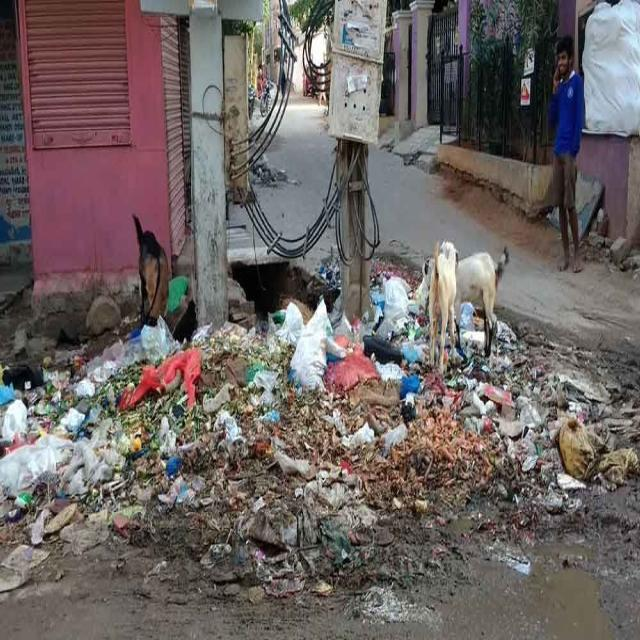garbage: (0, 243, 640, 616)
